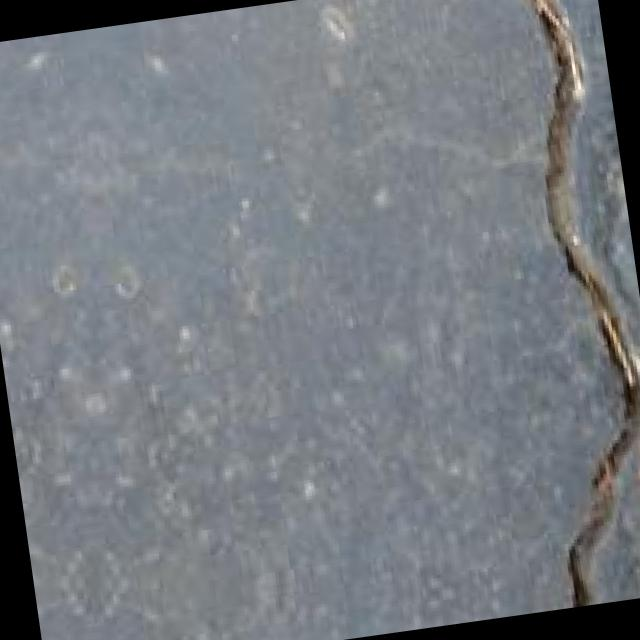crack: (383, 0, 640, 619)
